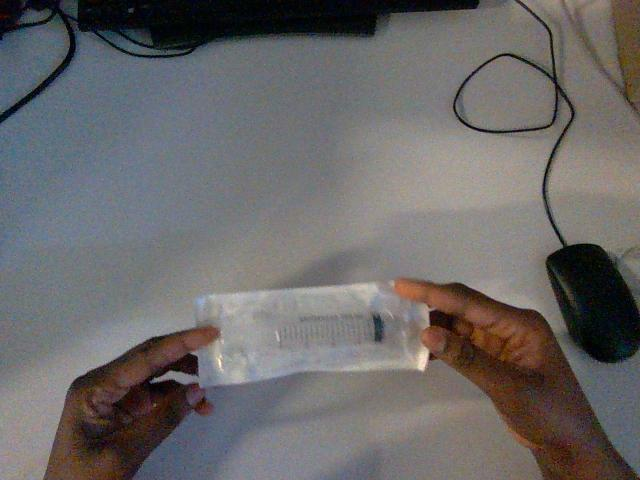syringe: (196, 283, 428, 386)
